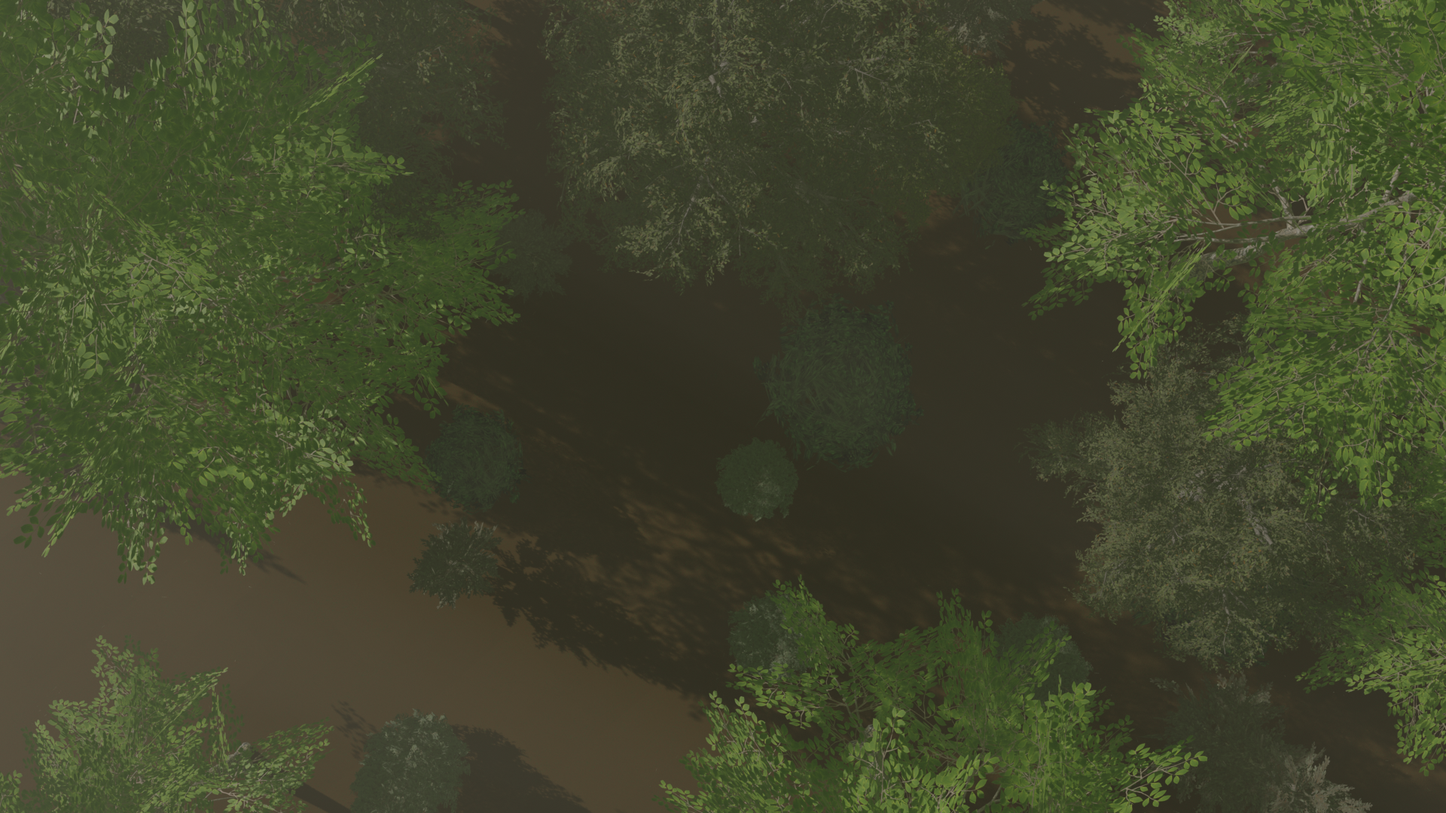pangolin: (27, 363, 72, 382)
